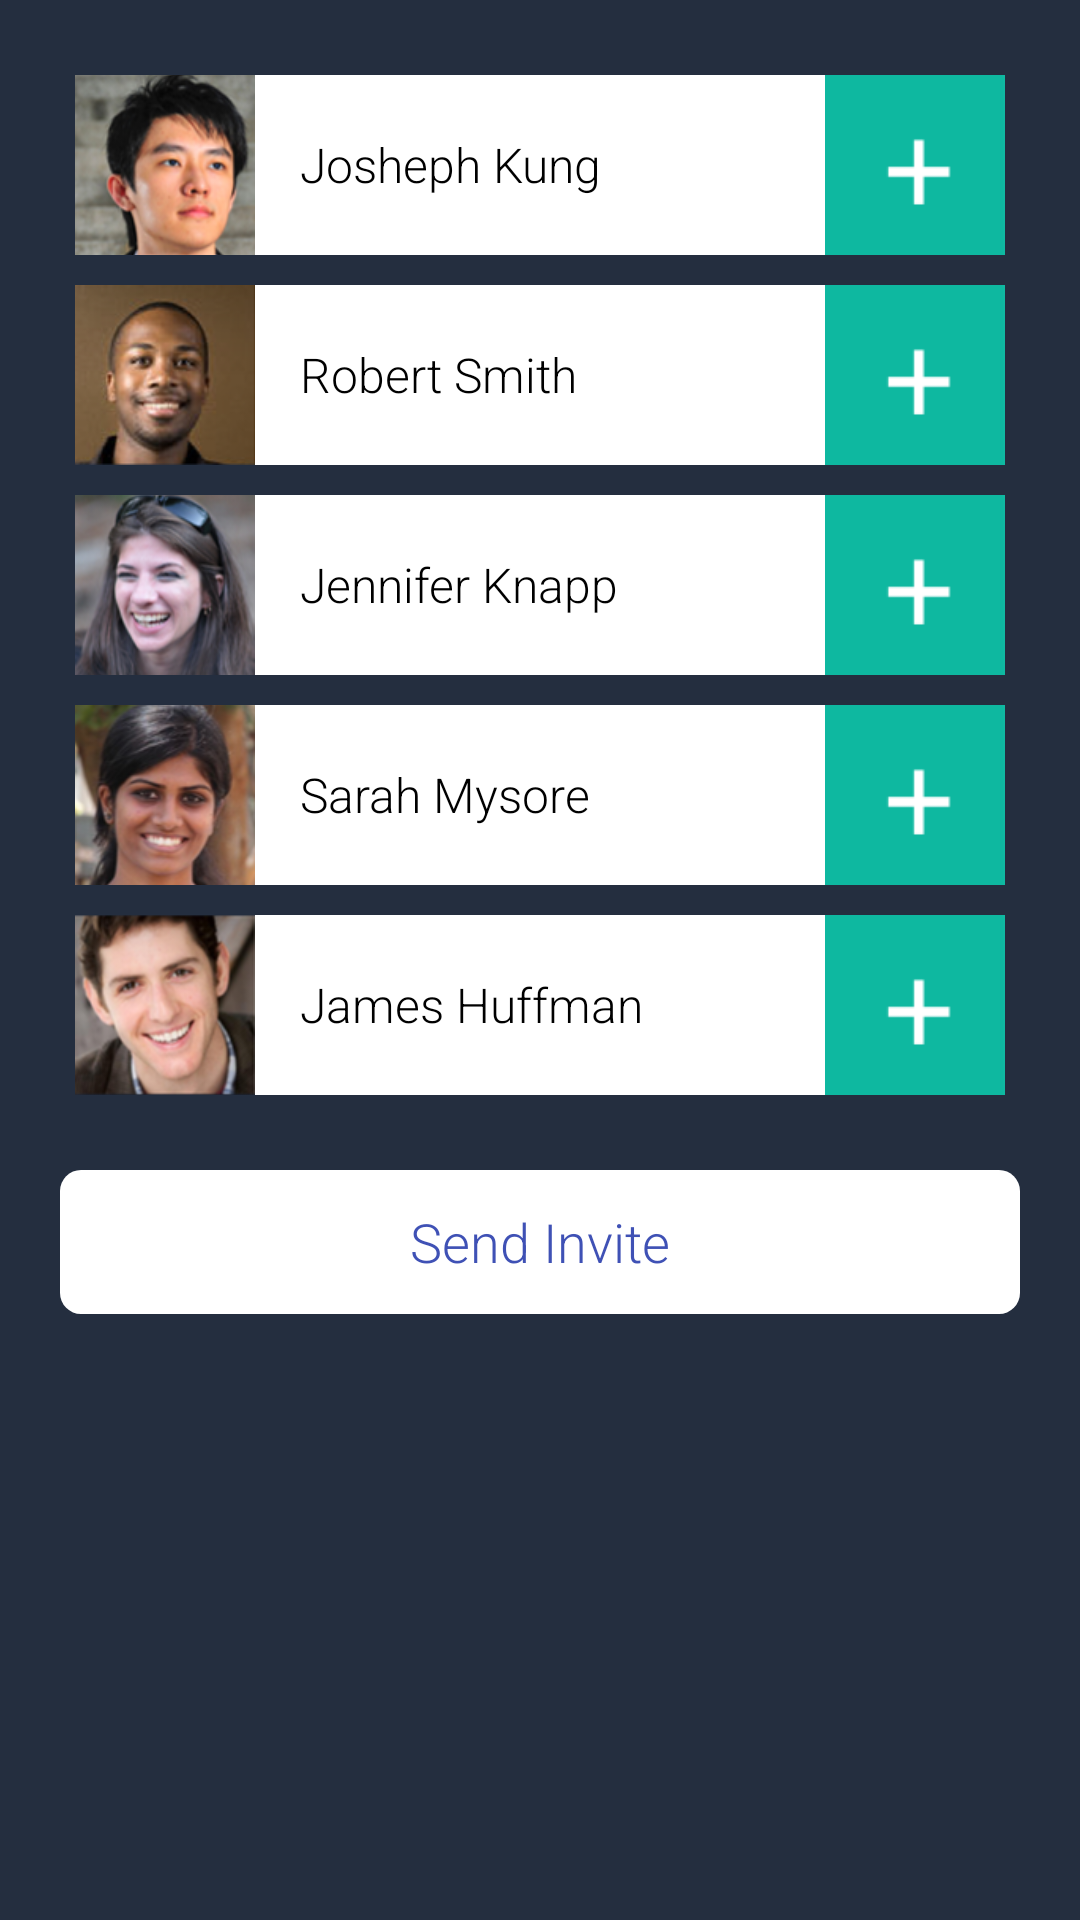

Locate icon controls on the screen. Image size 1080 x 1920, boxes as (x1, y1, x2, y2).
add image: (825, 75, 1005, 255), (825, 285, 1005, 465), (825, 495, 1005, 675), (825, 705, 1005, 885), (825, 915, 1005, 1095)
profpicture: (75, 75, 255, 255), (75, 285, 255, 465), (75, 495, 255, 675), (75, 705, 255, 885), (75, 915, 255, 1095)
